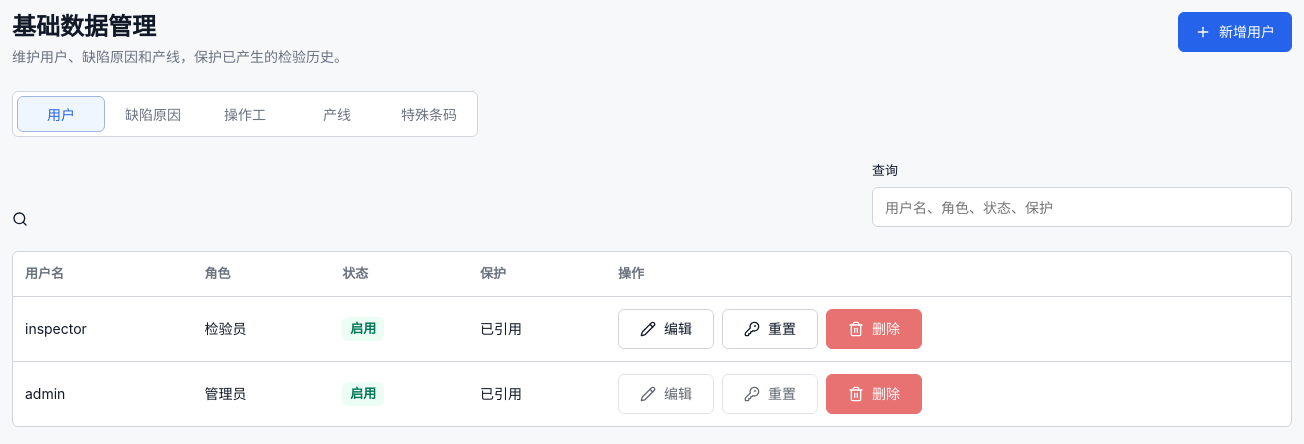
MasterDataPage › renders the three master data areas and loaded rows
The width and height of the screenshot is (1304, 444).
Check: the heading "基础数据管理" is shown, box [12,12,156,41]
Check: the tab "用户" is shown, box [17,96,105,132]
Click the tab "缺陷原因".
click(153, 114)  # box [109,96,197,132]
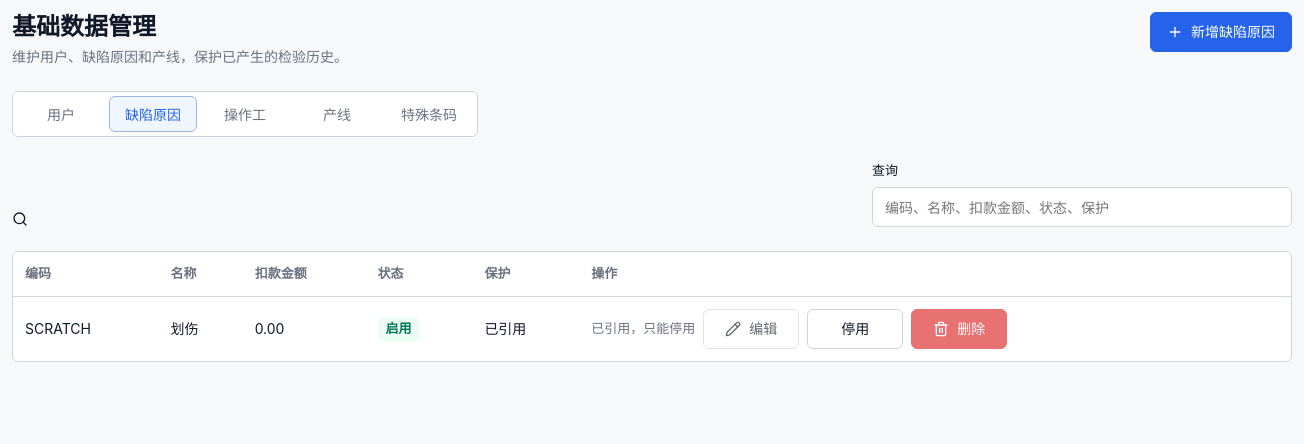
Check: the text "SCRATCH" is shown, box [13,296,158,361]
Check: the text "划伤" is shown, box [158,296,243,361]
Click the tab "产线".
click(337, 114)  # box [293,96,381,132]
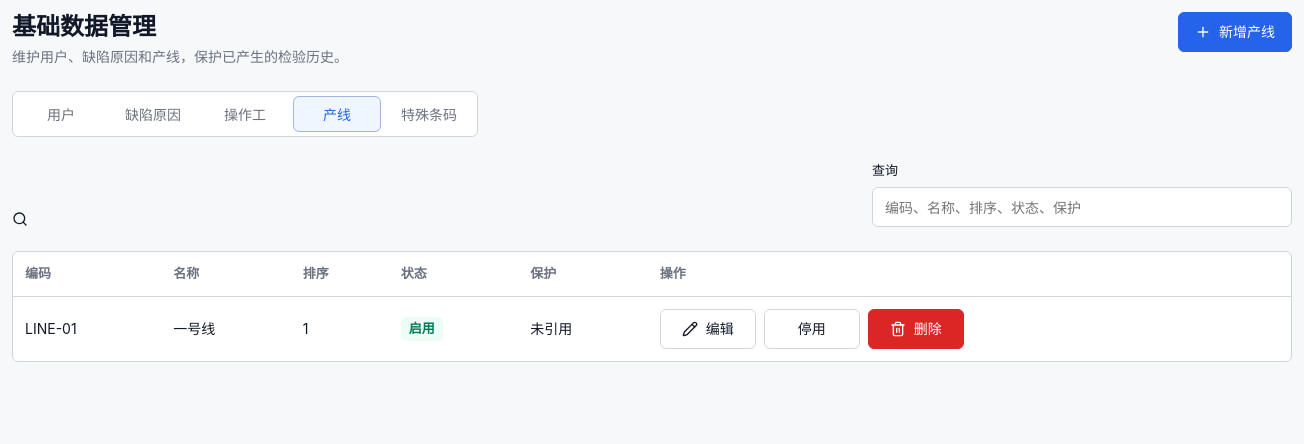
Check: the text "LINE-01" is shown, box [13,296,161,361]
Check: the text "一号线" is shown, box [161,296,291,361]
Click the tab "特殊条码".
click(429, 114)  # box [385,96,473,132]
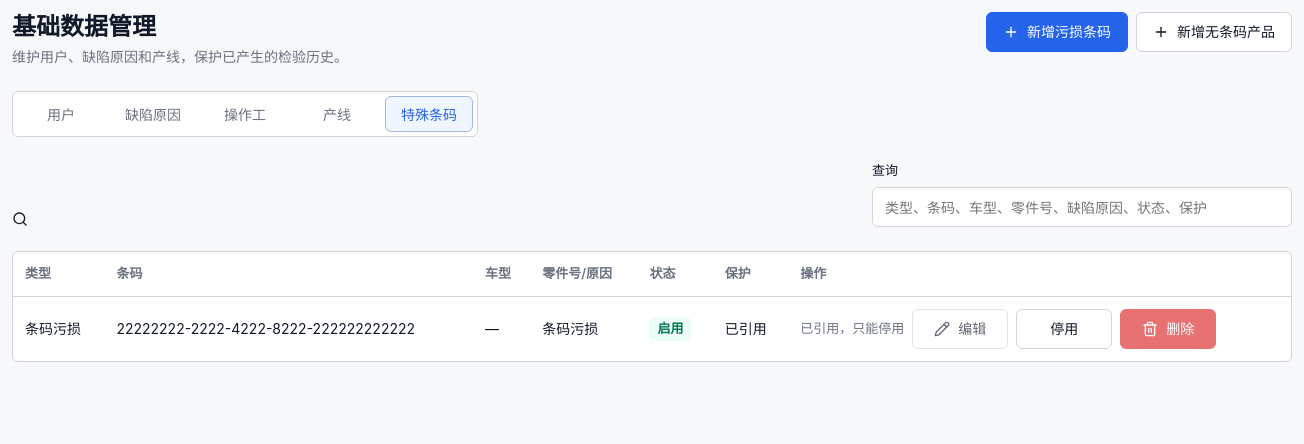
Check: the text "22222222-2222-4222-8222-222222222222" is shown, box [104,296,473,361]
Check: the 1st text "条码污损" is shown, box [13,296,104,361]
